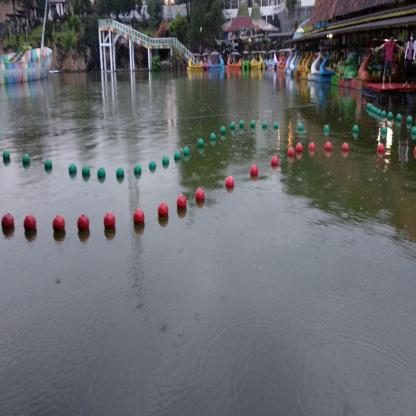green_buoy: (96, 166, 106, 180), (115, 166, 125, 179), (82, 164, 91, 178), (68, 162, 77, 175), (148, 158, 157, 170), (2, 148, 10, 161), (21, 154, 31, 164), (161, 155, 170, 166), (44, 156, 52, 168), (134, 162, 142, 173), (182, 146, 190, 156), (198, 136, 204, 148), (174, 149, 180, 160), (220, 124, 226, 134), (210, 132, 216, 140), (250, 120, 256, 127), (262, 121, 268, 128), (273, 122, 279, 129), (239, 118, 244, 126), (230, 121, 235, 128)
red_buoy: (52, 213, 66, 235), (1, 210, 15, 230), (77, 214, 90, 234), (23, 214, 37, 232), (104, 210, 116, 230), (133, 207, 145, 226), (176, 193, 188, 210), (158, 200, 168, 220), (195, 187, 205, 203), (225, 175, 235, 189), (250, 163, 258, 177), (341, 141, 350, 152), (295, 142, 304, 153), (324, 141, 332, 153), (271, 155, 279, 166), (308, 141, 316, 151), (288, 147, 296, 157)
